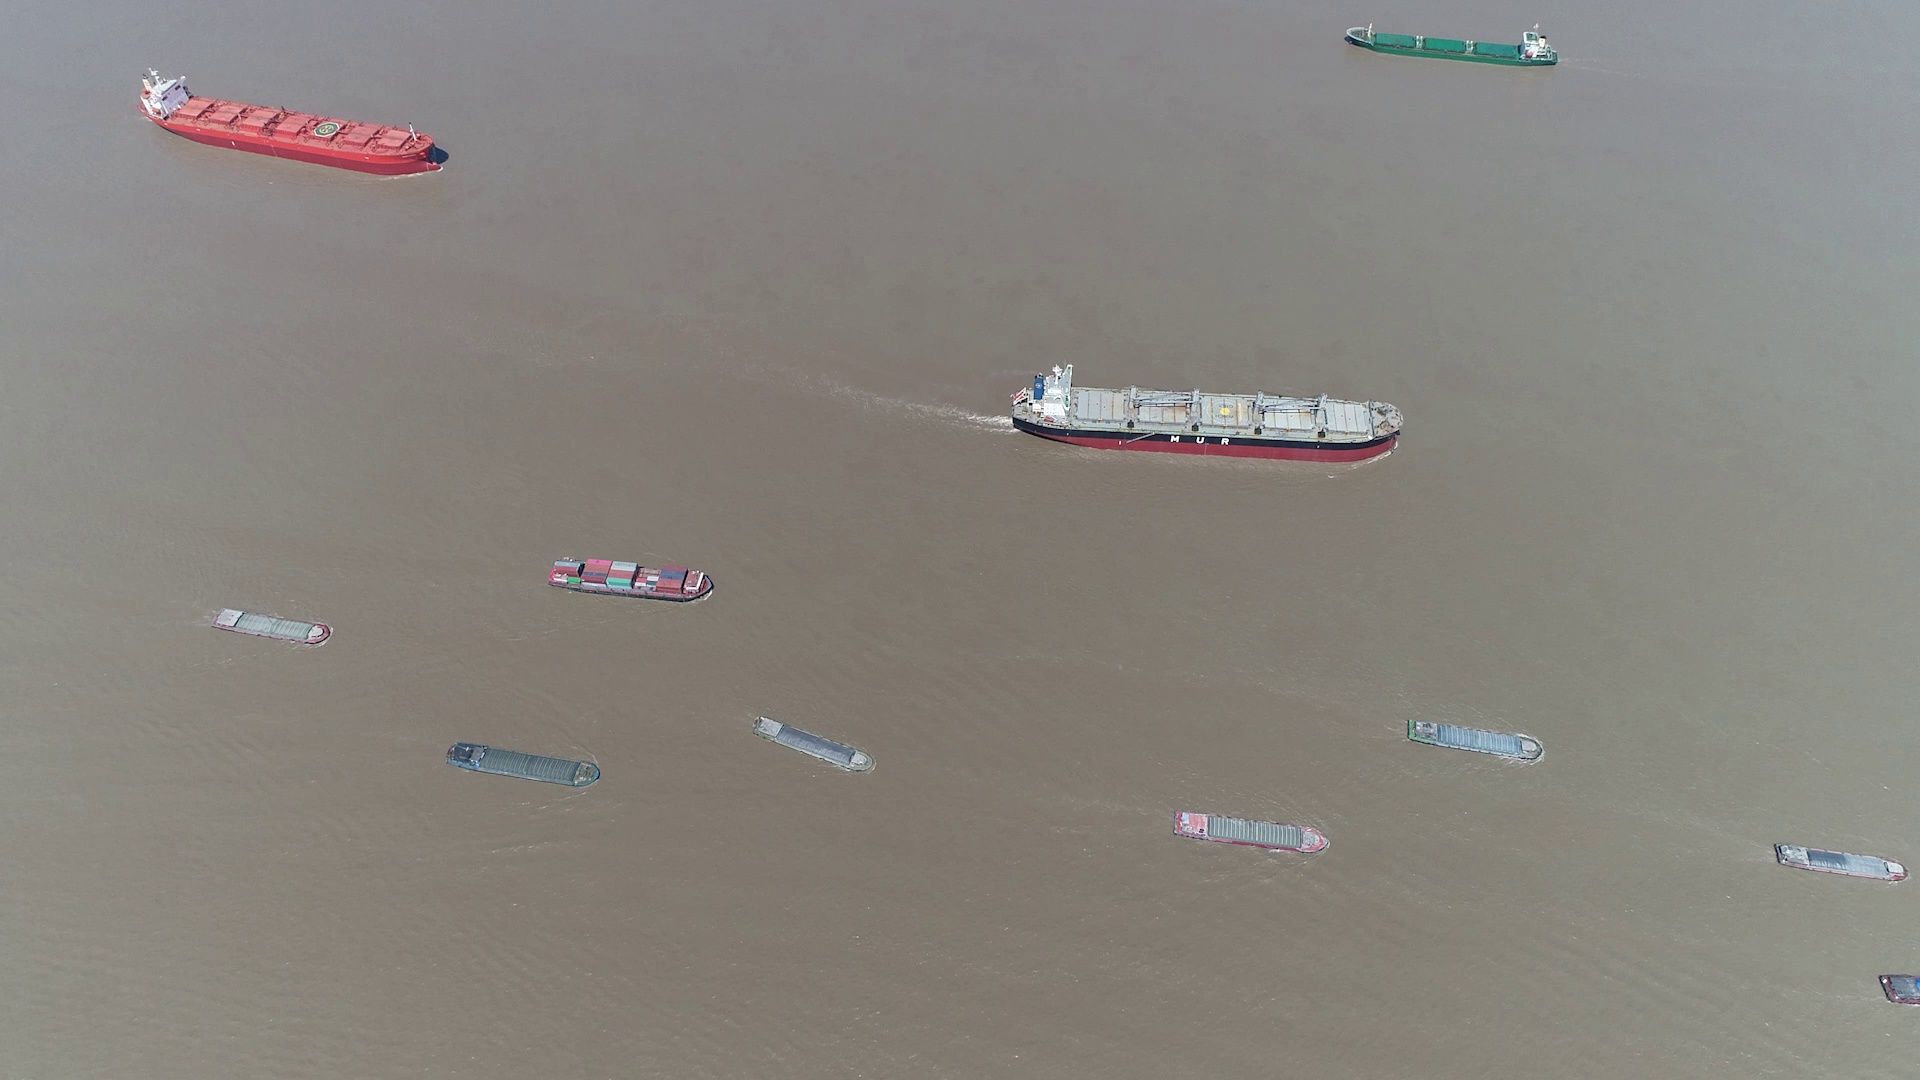ship: (1010, 368, 1406, 463), (142, 69, 444, 173), (1342, 26, 1557, 67), (549, 556, 717, 603), (448, 741, 603, 789), (753, 715, 873, 775), (1174, 811, 1331, 855), (1404, 719, 1545, 761), (1772, 843, 1905, 882), (212, 608, 331, 645), (1879, 973, 1919, 1007)
